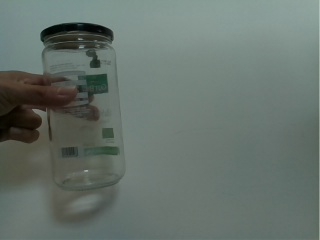pote cristal: (38, 21, 130, 193)
